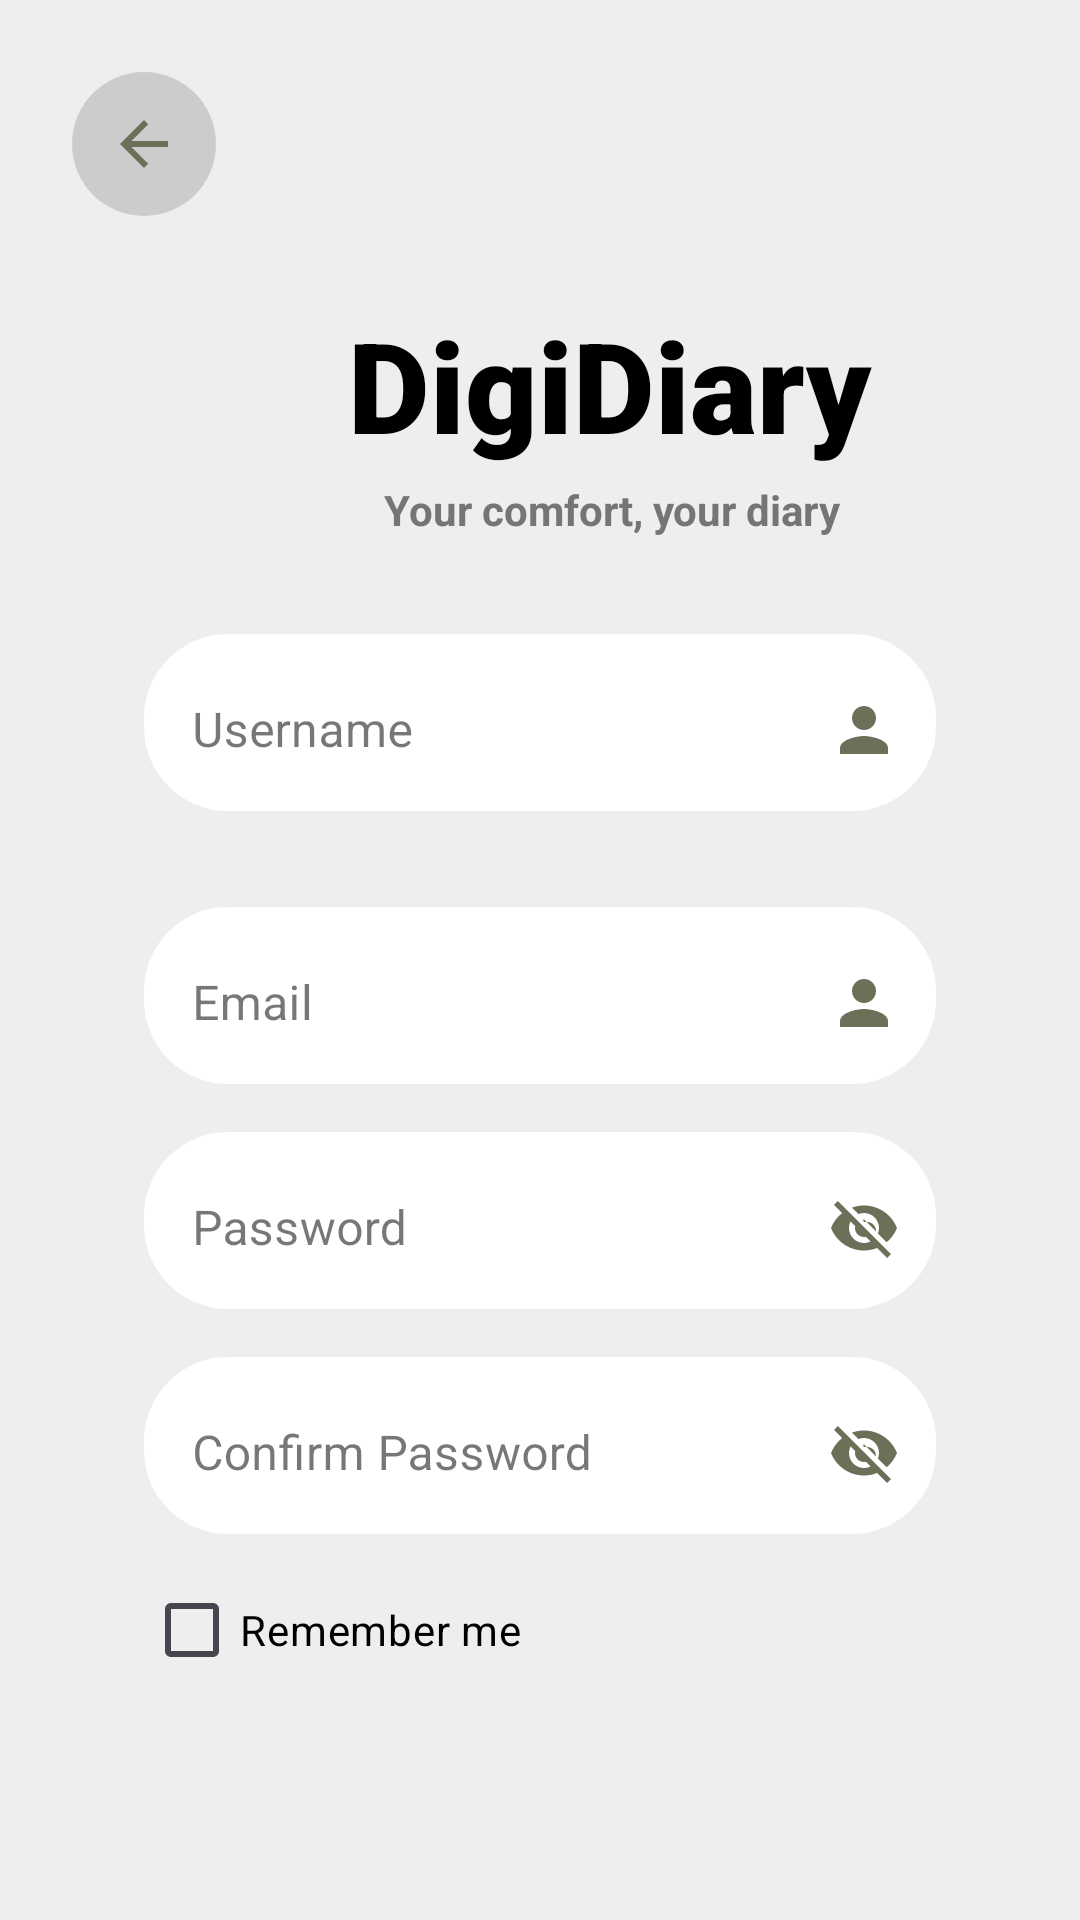

Named icons in this screenshot (1080x1920) and their bounding boxes, (x1=x1, y1=y1, x2=x2, y2=y2):
back: (x1=72, y1=72, x2=216, y2=216)
